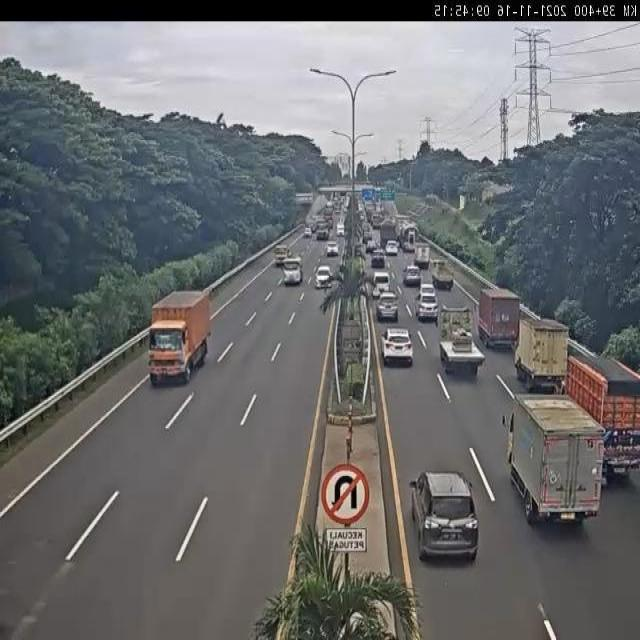Car: (407, 464, 487, 556), (381, 328, 414, 367), (376, 293, 399, 322), (416, 294, 438, 322), (372, 271, 391, 294), (315, 264, 333, 288), (369, 246, 386, 269), (404, 265, 421, 287), (325, 242, 340, 260), (385, 240, 400, 256)
Truck: (506, 393, 606, 525), (564, 352, 640, 471), (138, 278, 214, 392), (514, 312, 568, 393), (435, 306, 480, 382), (478, 287, 520, 350), (396, 215, 422, 252), (280, 258, 307, 287), (431, 259, 453, 290), (414, 244, 431, 271)
